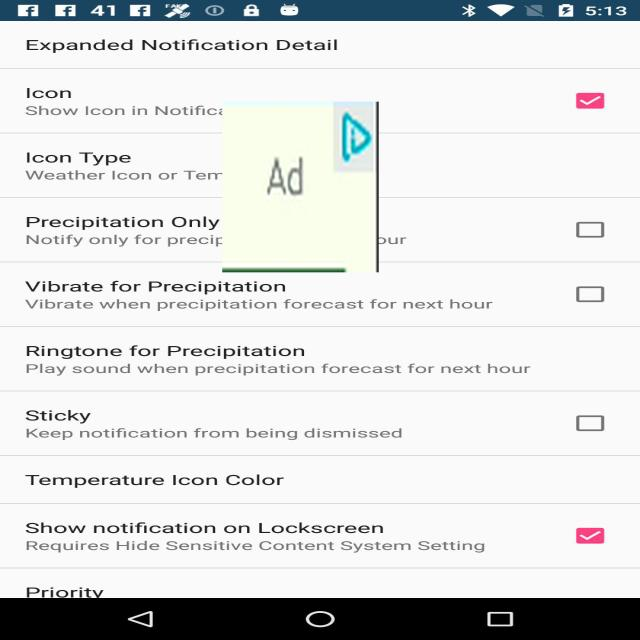sneaking: (222, 102, 379, 272)
